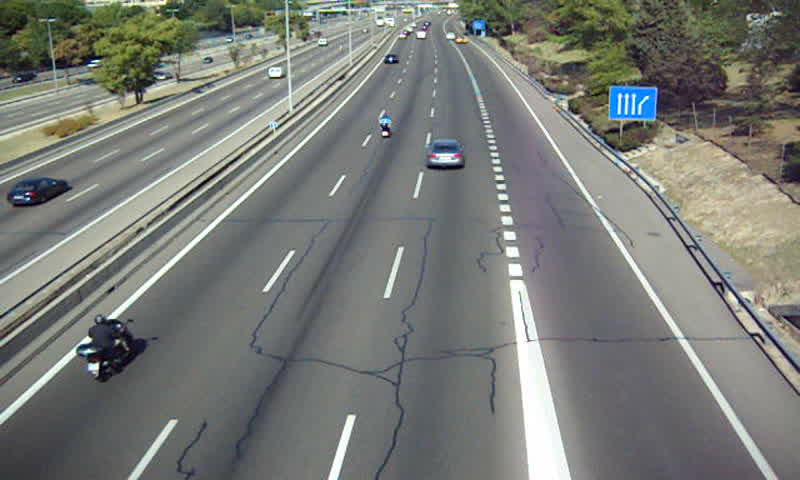car: (426, 138, 466, 168), (383, 53, 399, 66)
motorcycle: (75, 314, 131, 381), (379, 115, 394, 140)
